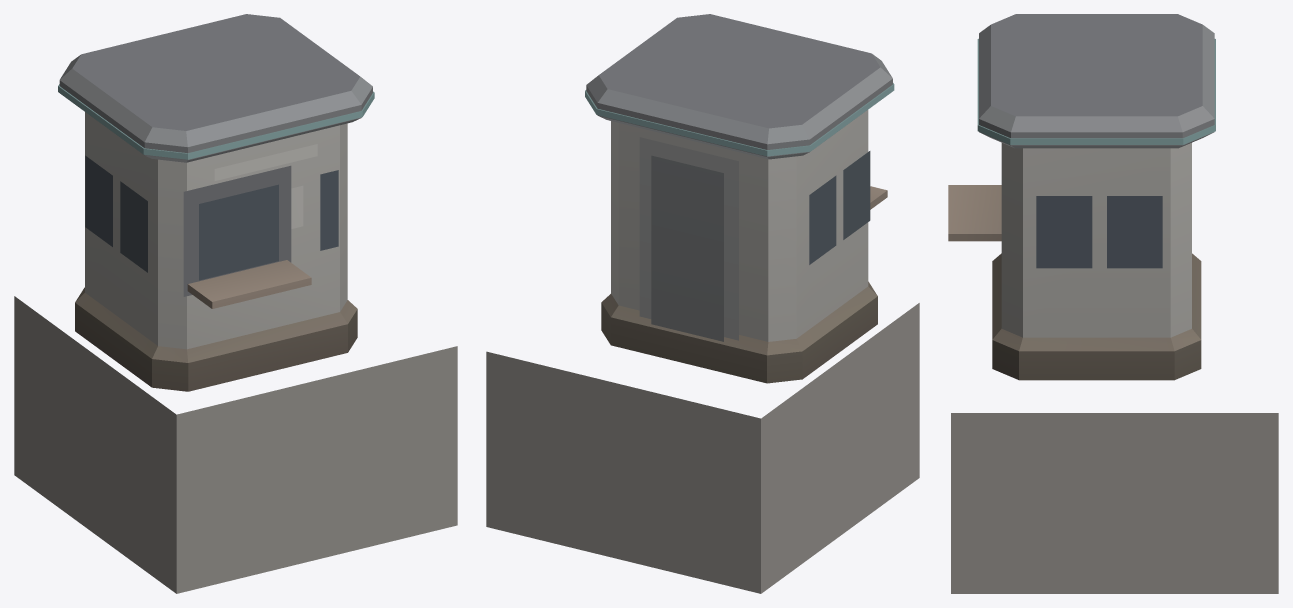
File: ticket.lod2.glb
The picture shows the model from 3 angles, left to right: view 1: azimuth 30°, elevation 25°; view 2: azimuth 150°, elevation 25°; view 3: azimuth 270°, elevation 25°; orthographic projection. The views are drawn at different scales.
Size of the model in its own units: 2.49 by 3.69 by 2.48.
